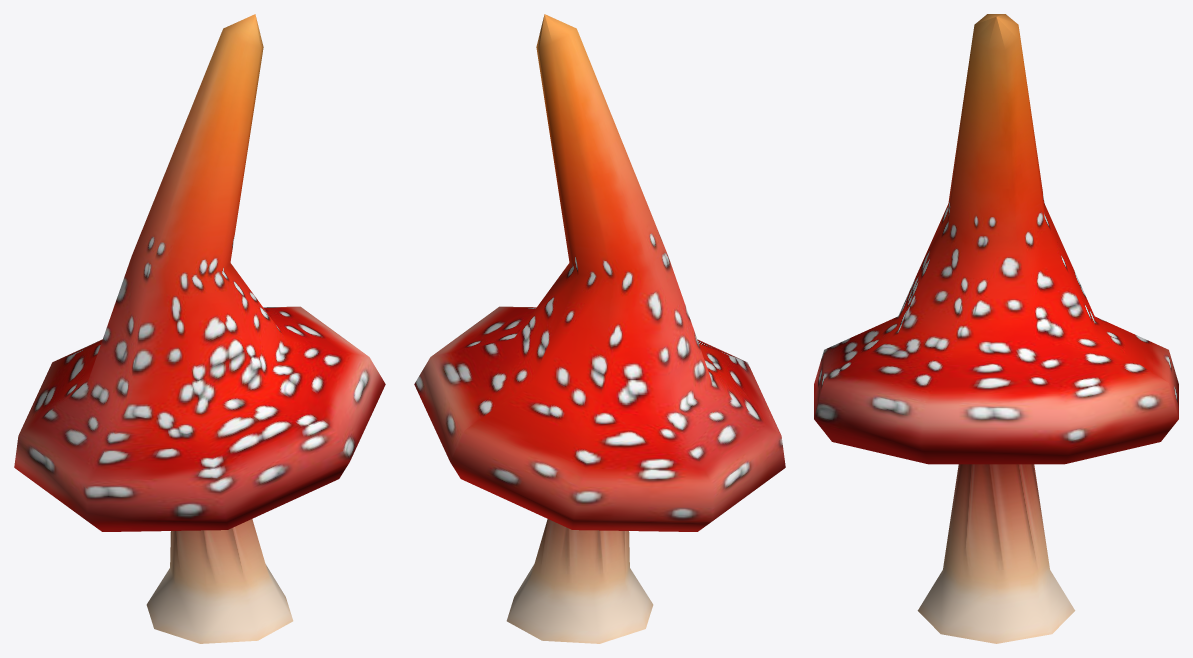
Rendered from mushroom.FBX.
The picture shows the model from 3 angles, left to right: view 1: azimuth 30°, elevation 25°; view 2: azimuth 150°, elevation 25°; view 3: azimuth 270°, elevation 25°; orthographic projection. The views are drawn at different scales.
Parts seen in each view (by area): view 1: mushroom; view 2: mushroom; view 3: mushroom.
Boxes of the visible parts, bbox=[...] form: mushroom: bbox=[14, 14, 385, 643]; mushroom: bbox=[414, 14, 785, 643]; mushroom: bbox=[814, 14, 1178, 643].
Bounding box in the file's own units: 1.35 × 1.37 × 2.54.
